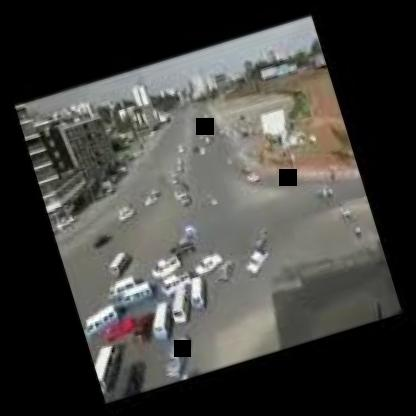car: (101, 253, 160, 319), (236, 240, 287, 292), (89, 332, 130, 390), (138, 292, 178, 343), (164, 275, 200, 328), (188, 240, 230, 278)
